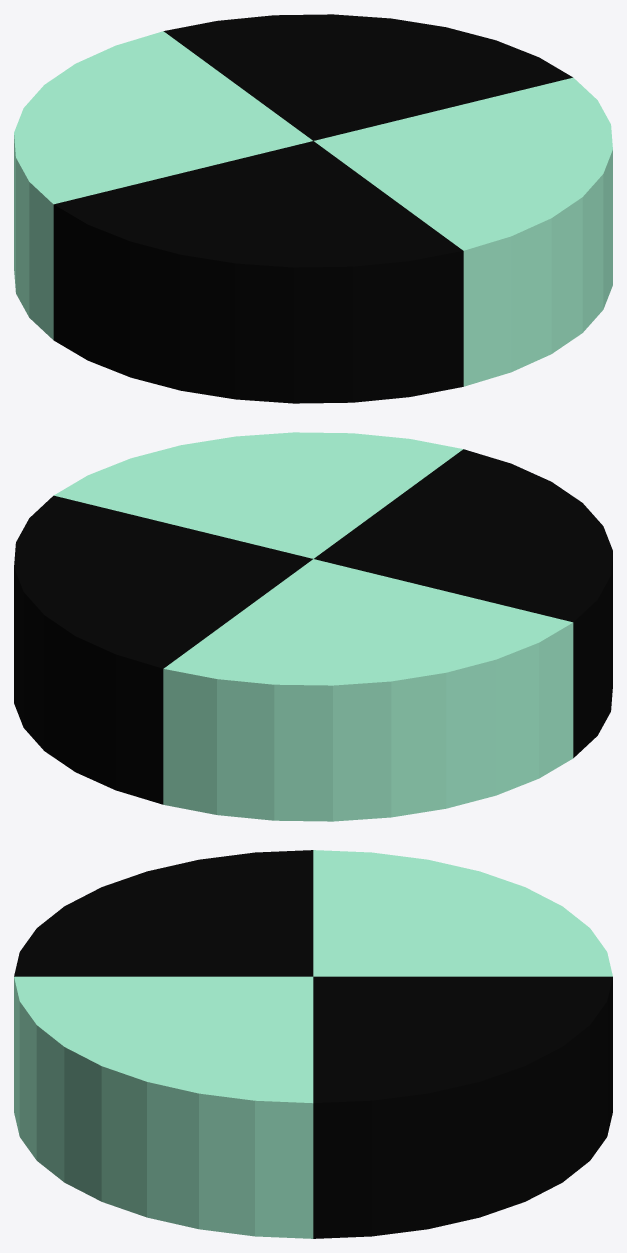
File: LeftProjectile.glb
3 views of the same model, one above another, from view 1: azimuth 30°, elevation 25°; view 2: azimuth 150°, elevation 25°; view 3: azimuth 270°, elevation 25° (orthographic).
Visible parts, largest first — view 1: projectile; view 2: projectile; view 3: projectile.
Boxes of the visible parts, x1=… form: projectile: x1=14, y1=14, x2=612, y2=403; projectile: x1=14, y1=432, x2=612, y2=821; projectile: x1=14, y1=850, x2=612, y2=1238.
Bounding box in the file's own units: 0.4 × 0.1 × 0.4.
1 material, 1 textured.
